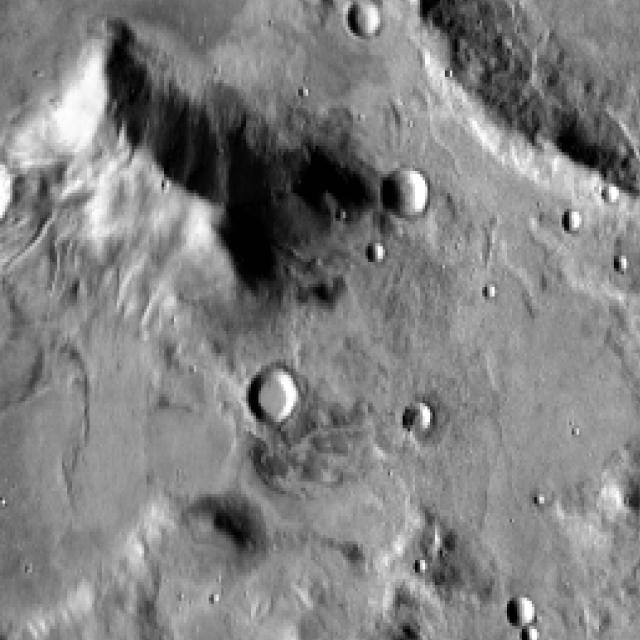Crater: (332, 0, 640, 242), (254, 345, 320, 442), (0, 122, 27, 254), (398, 397, 438, 439), (506, 588, 538, 631)
